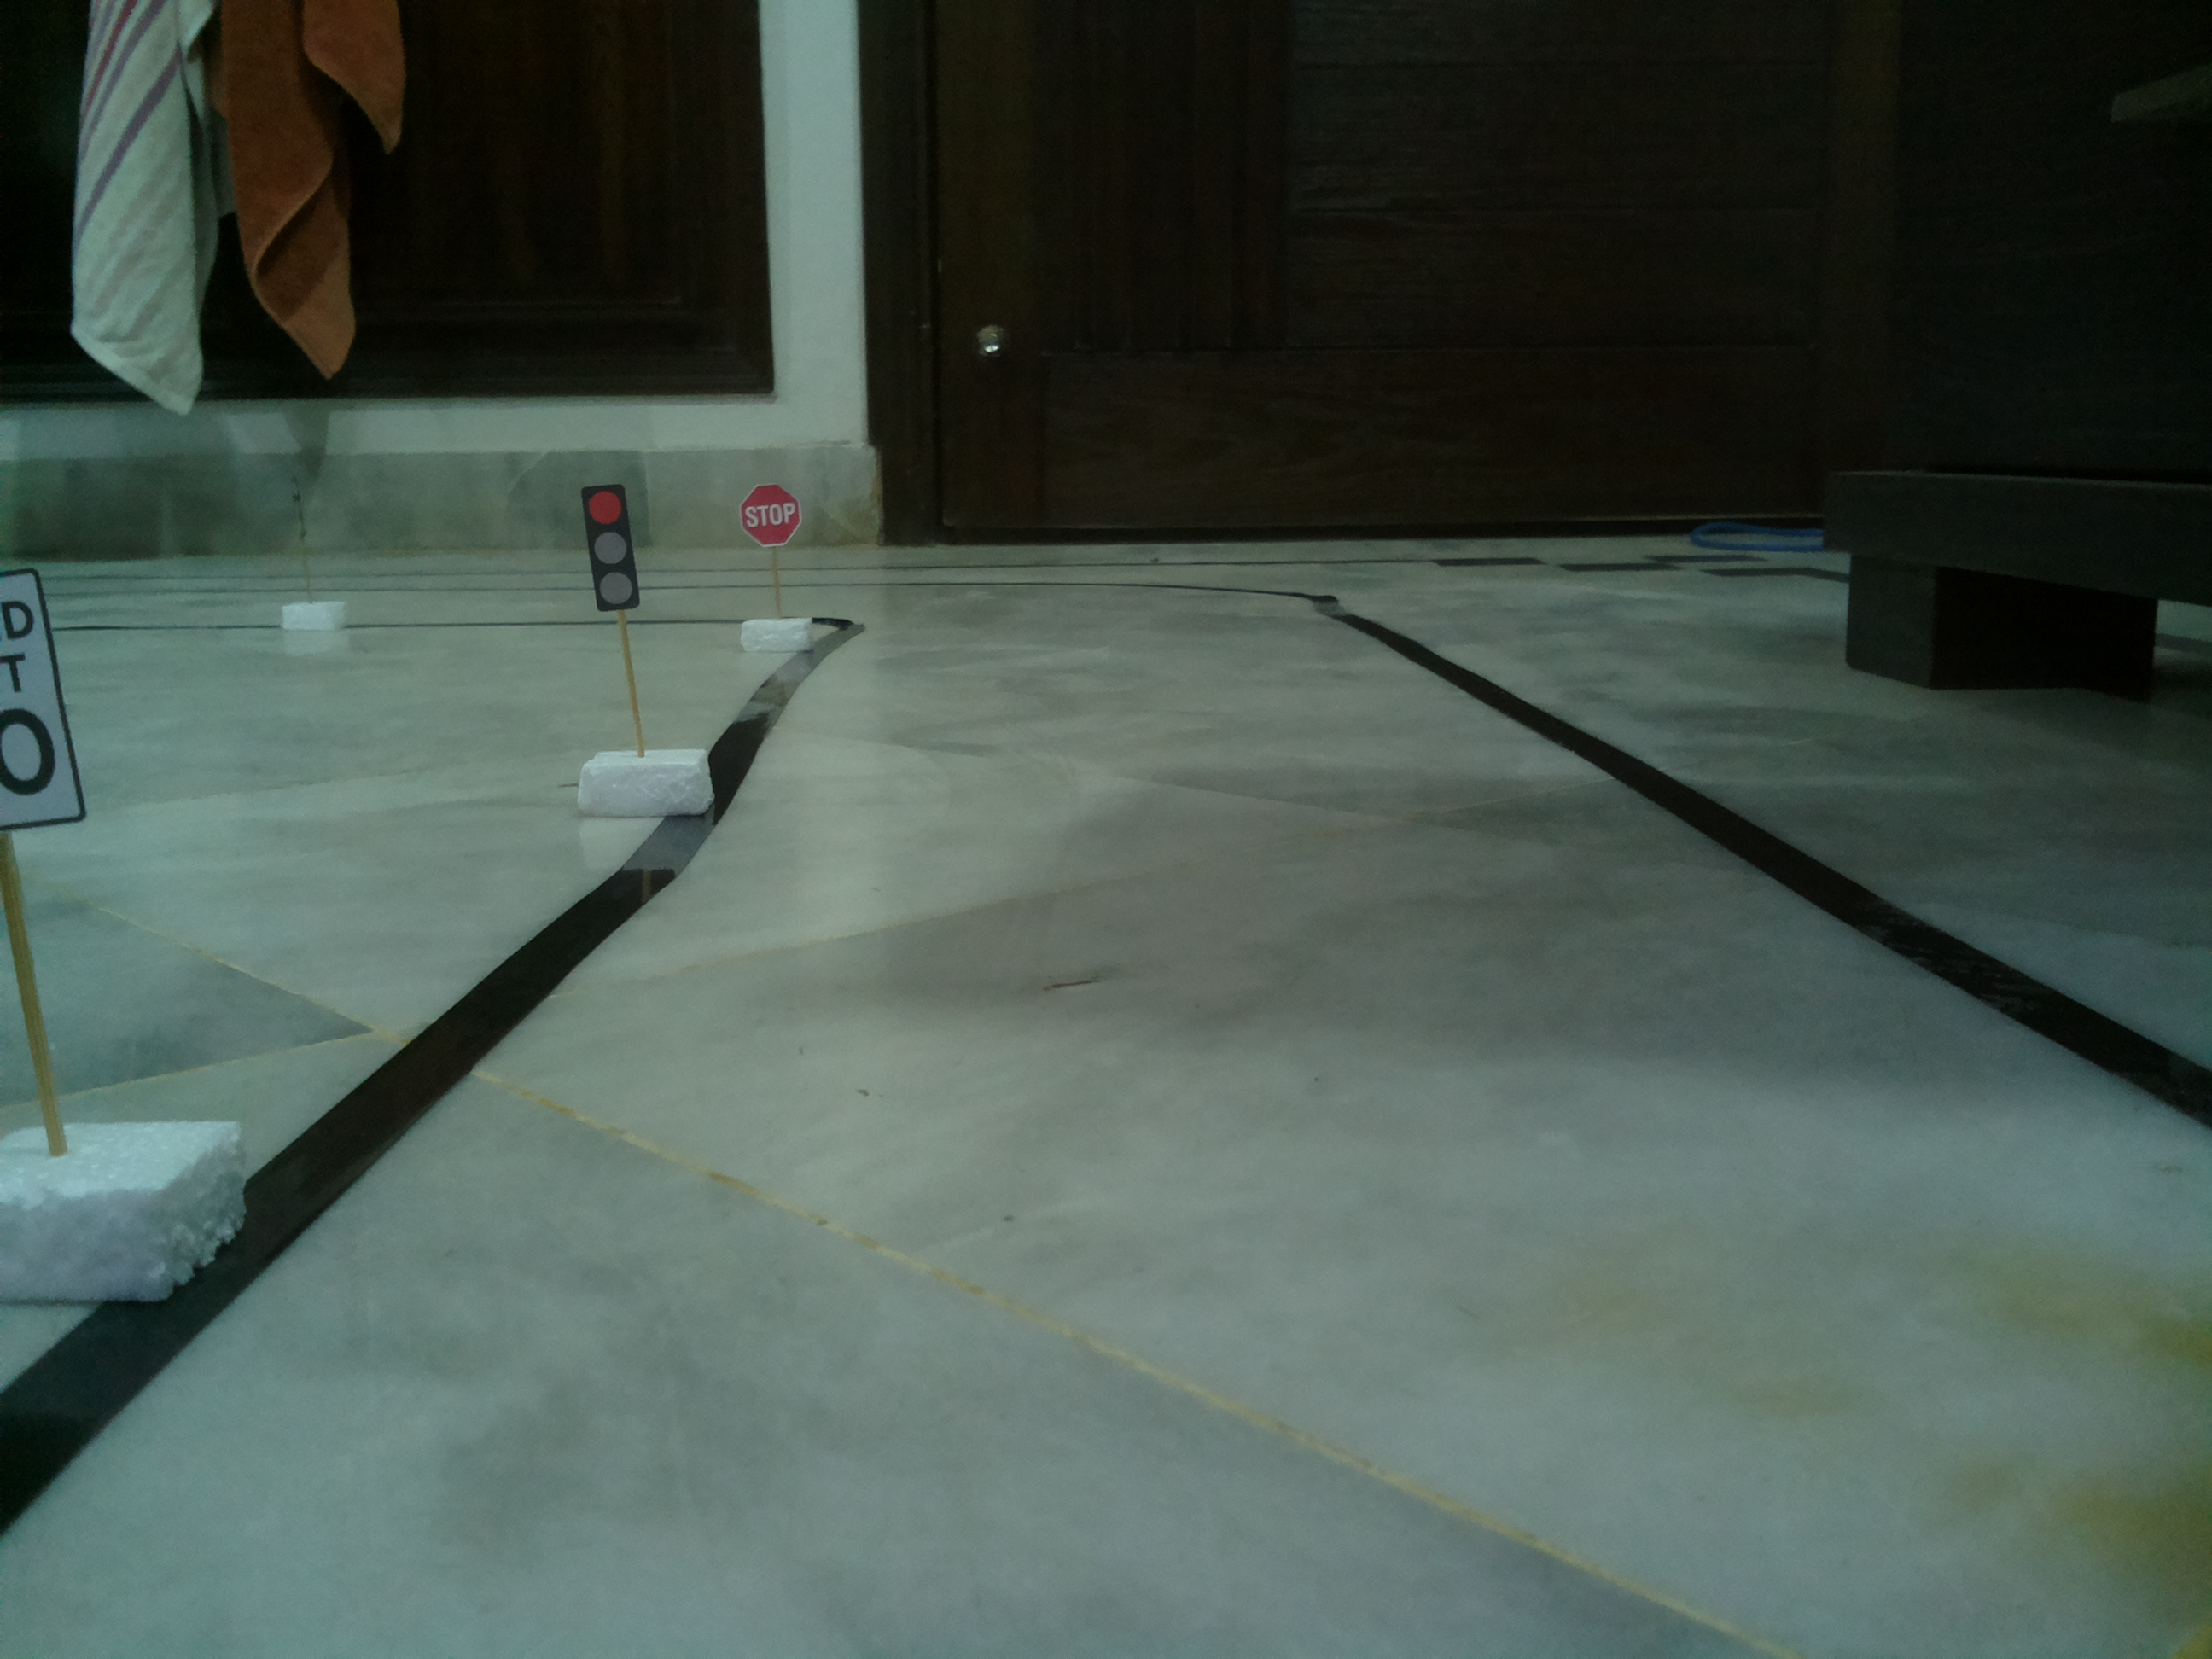Red traffic light: (578, 481, 648, 613)
Stop sign: (738, 481, 805, 551)
